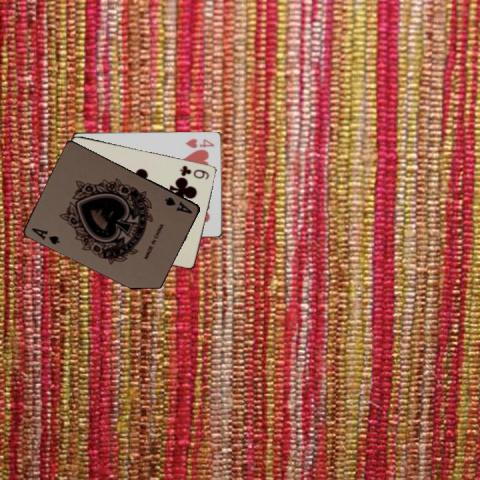4h: (183, 136, 216, 148)
6c: (176, 162, 210, 181)
As: (162, 193, 194, 215), (29, 225, 61, 246)
